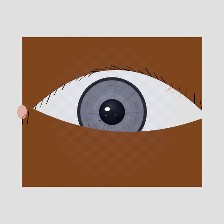pinguecula_lesion: (149, 102, 188, 133)
